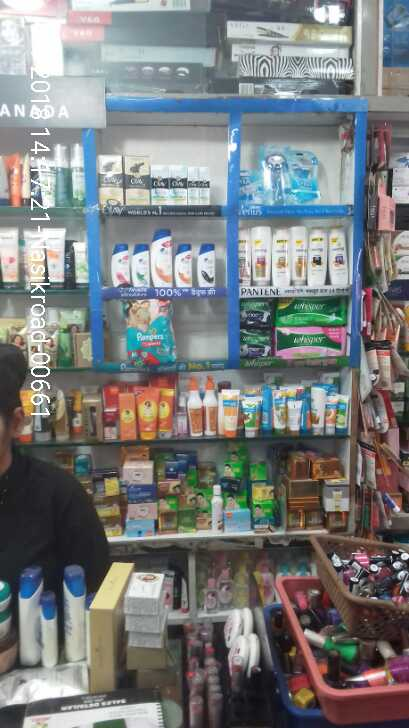venus: (263, 143, 291, 204), (291, 149, 315, 203), (242, 172, 262, 201)
